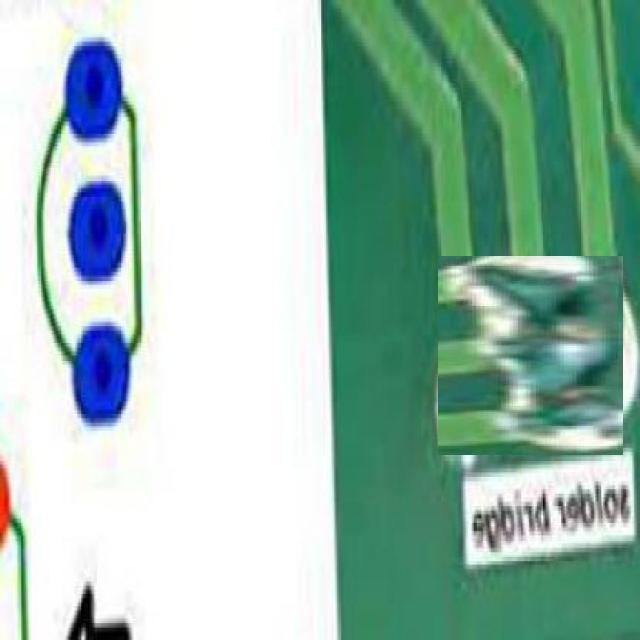Short_circuit: (435, 259, 627, 452)
